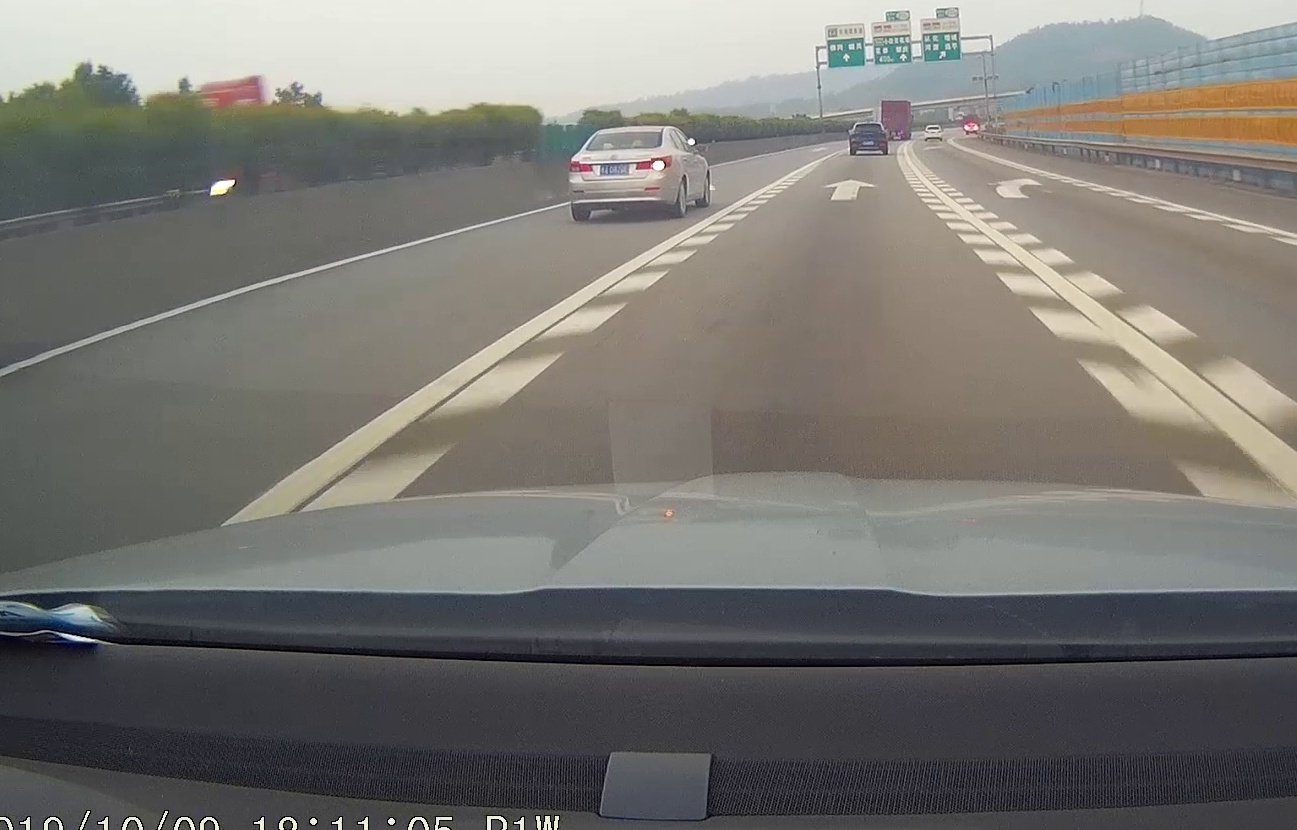L_light: (569, 160, 594, 173)
R_light: (636, 155, 672, 170)
T_light: (611, 147, 631, 149)
day-right: (568, 126, 675, 221)
